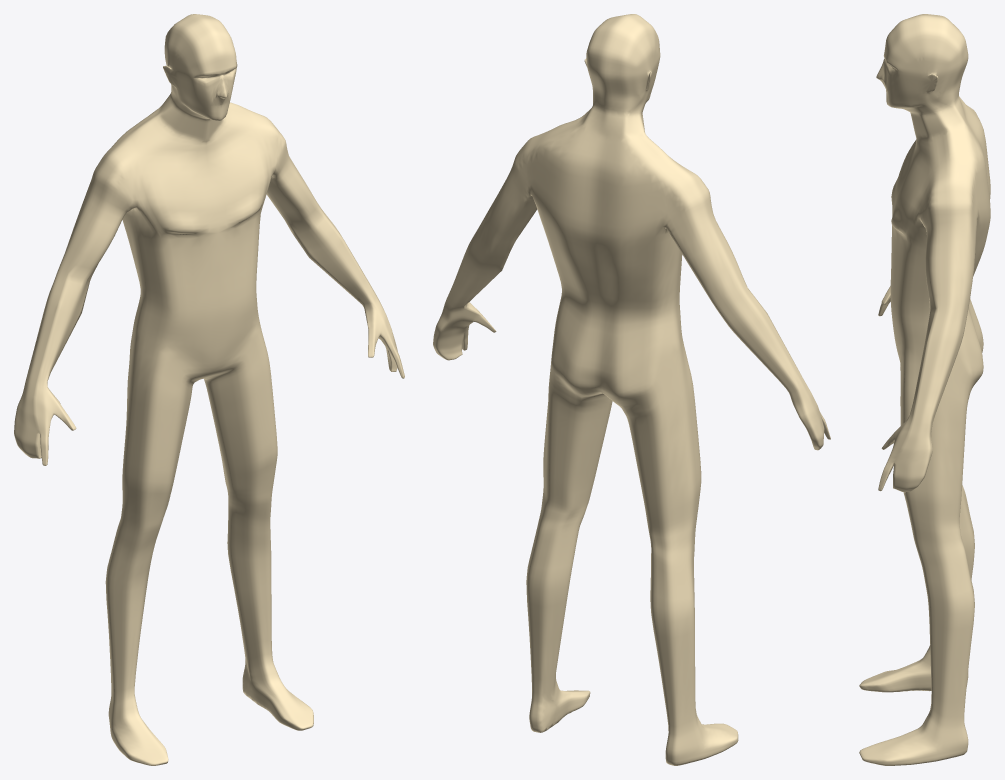
The model's file is body.glb.
3 views of the same model, side by side, from view 1: azimuth 30°, elevation 25°; view 2: azimuth 150°, elevation 25°; view 3: azimuth 270°, elevation 25° (orthographic).
Visible parts, largest first — view 1: Body; view 2: Body; view 3: Body.
Part boxes in pixels (left/top/right/bottom): Body: left=14, top=14, right=404, bottom=765; Body: left=433, top=14, right=830, bottom=765; Body: left=859, top=14, right=990, bottom=765.
Size of the model in its own units: 1.95 by 3.49 by 0.5891.
